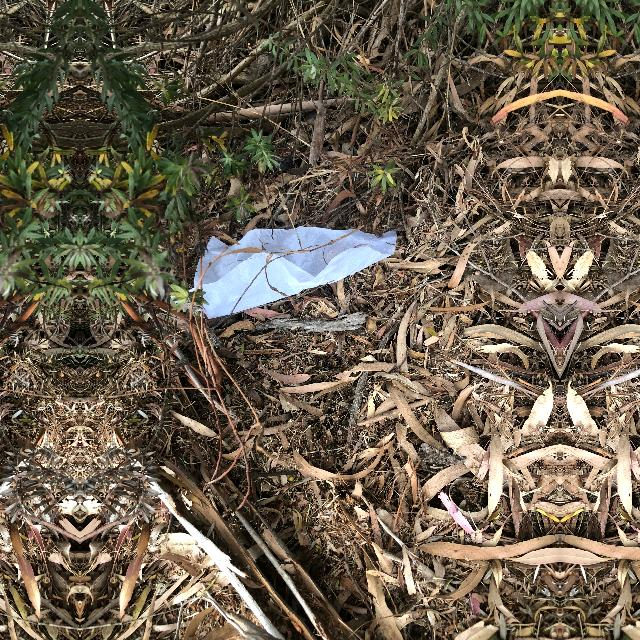Plastic: (175, 215, 409, 329)
